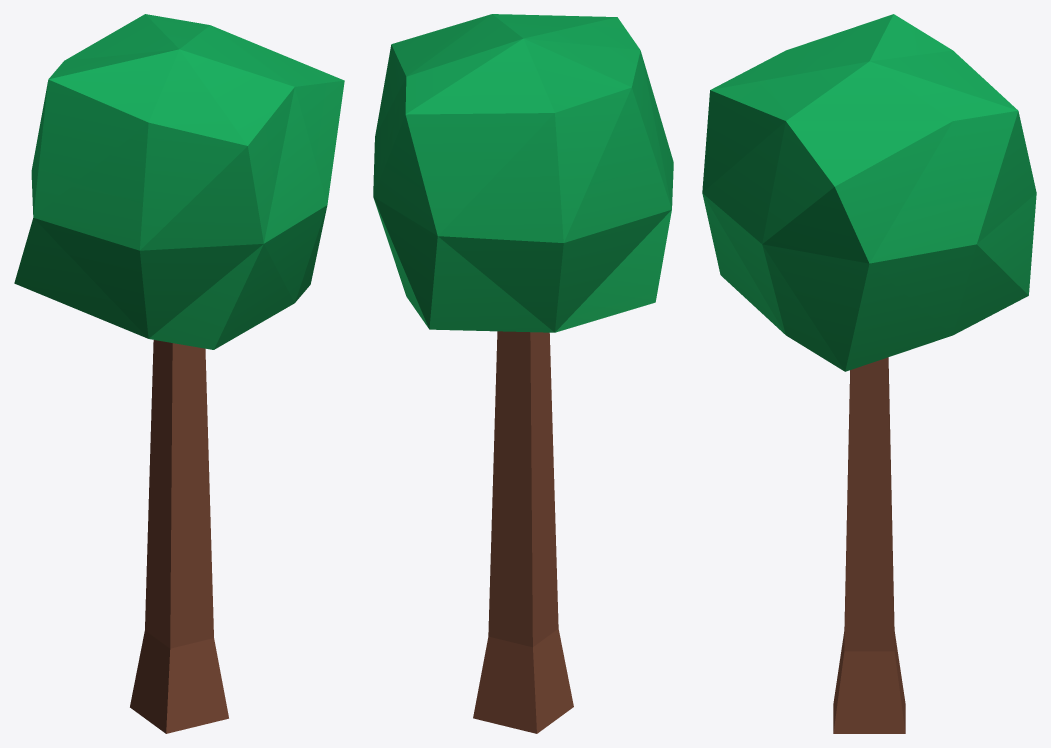
Rendered from Tree_42_gradient_green_vc.fbx.
3 renders of one model, left to right at view 1: azimuth 30°, elevation 25°; view 2: azimuth 150°, elevation 25°; view 3: azimuth 270°, elevation 25°, orthographic. The views are drawn at different scales.
Parts seen in each view (by area): view 1: Tree_42_gradient_green_vc; view 2: Tree_42_gradient_green_vc; view 3: Tree_42_gradient_green_vc.
Part boxes in pixels (x1,y1,x2,y2): Tree_42_gradient_green_vc: [14, 14, 344, 733]; Tree_42_gradient_green_vc: [373, 14, 673, 733]; Tree_42_gradient_green_vc: [702, 14, 1036, 733].
Bounding box in the file's own units: 98.78 × 212 × 97.79.
